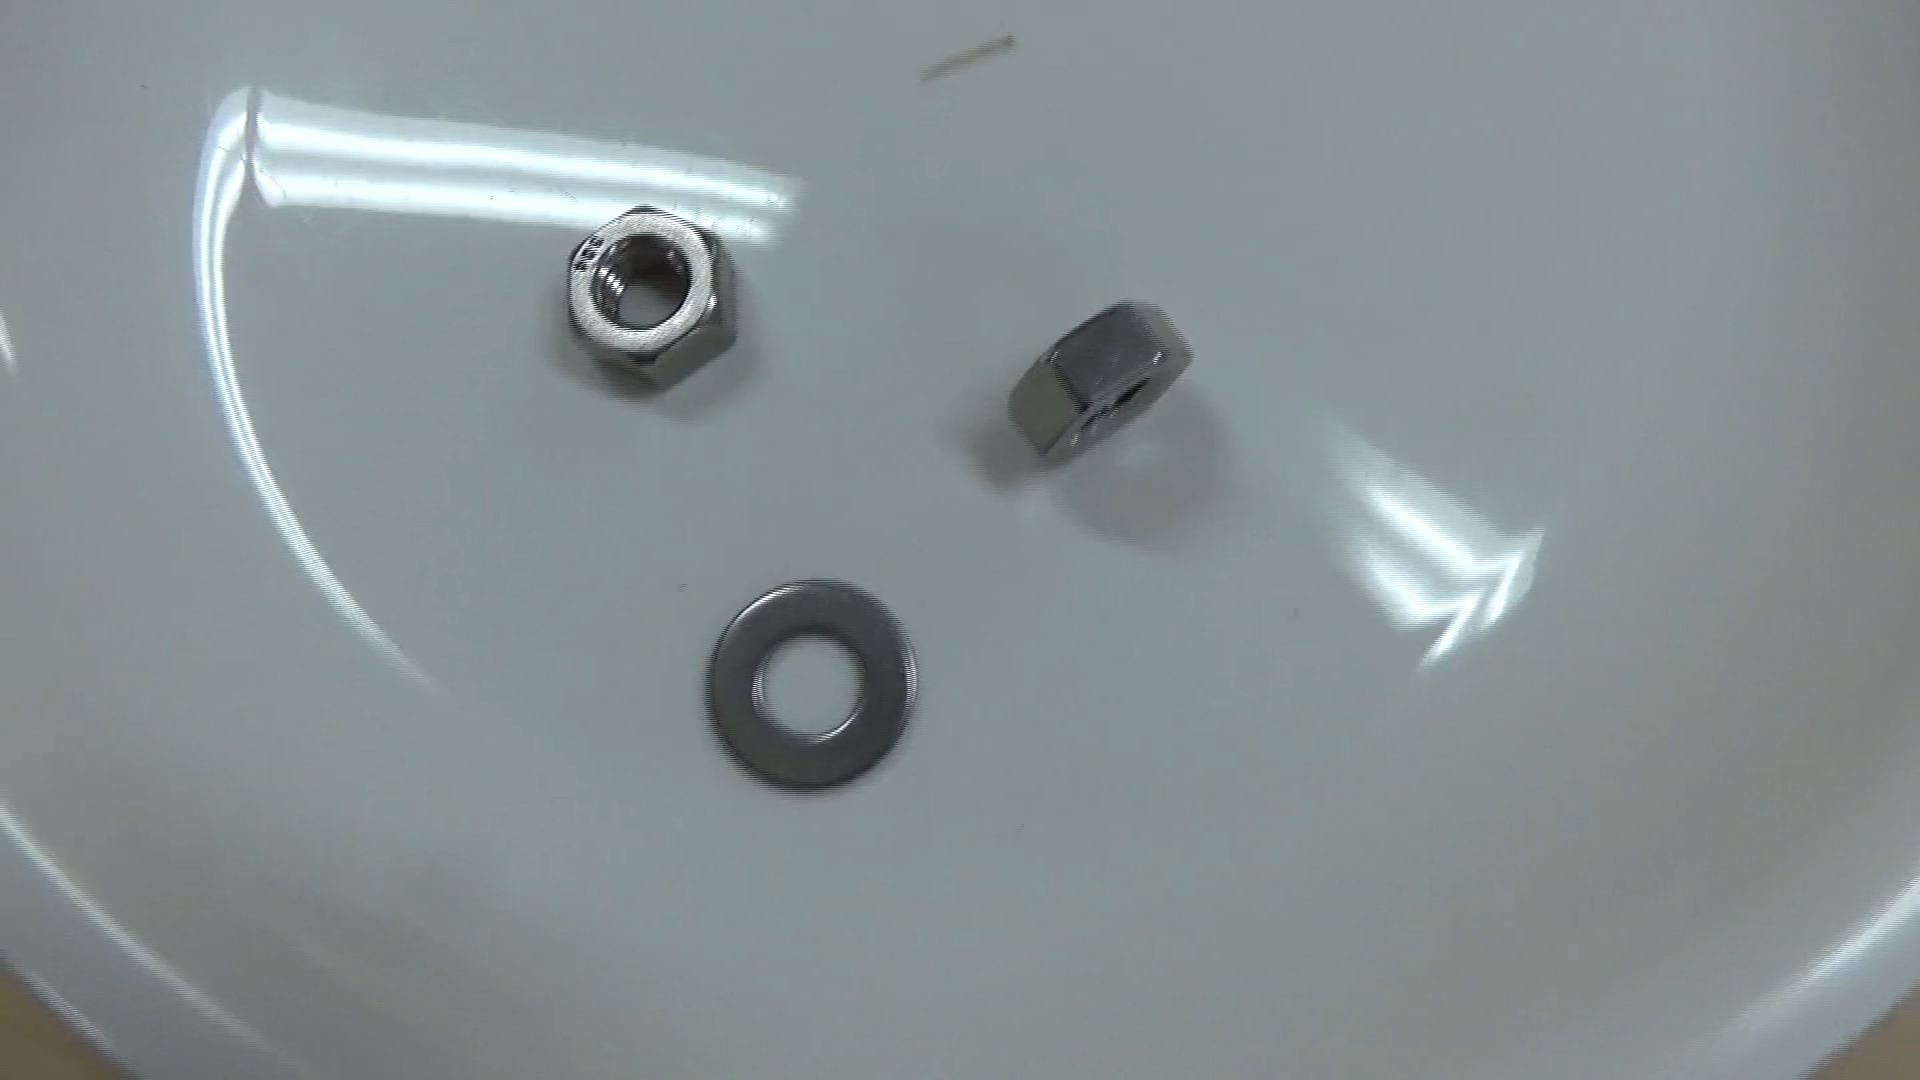nut: (559, 193, 742, 401), (992, 291, 1197, 473)
washer: (698, 563, 930, 802)
